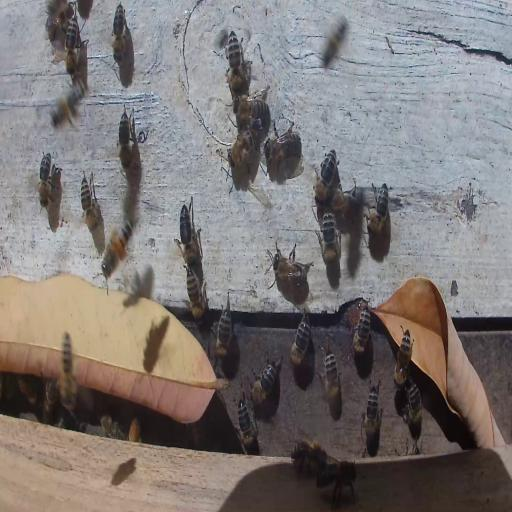bee: (267, 240, 309, 294), (101, 217, 134, 281), (56, 328, 79, 412), (50, 76, 87, 126), (177, 202, 200, 272), (316, 459, 358, 495), (322, 344, 344, 412), (250, 358, 278, 410), (330, 182, 363, 226), (263, 128, 303, 164), (228, 126, 259, 172), (290, 437, 326, 476), (366, 181, 392, 234), (321, 19, 349, 68), (225, 31, 246, 96), (314, 150, 338, 206), (80, 171, 101, 232), (235, 398, 257, 455), (236, 89, 270, 124), (44, 4, 76, 39), (362, 382, 380, 444), (290, 313, 311, 366), (351, 304, 373, 354), (216, 303, 234, 364), (319, 212, 340, 264), (394, 328, 412, 387), (117, 106, 132, 174), (186, 270, 206, 321), (406, 380, 424, 436), (112, 2, 126, 64), (38, 150, 52, 209), (64, 16, 78, 75), (43, 378, 58, 422), (18, 379, 38, 407), (100, 415, 123, 437), (128, 416, 142, 442)
